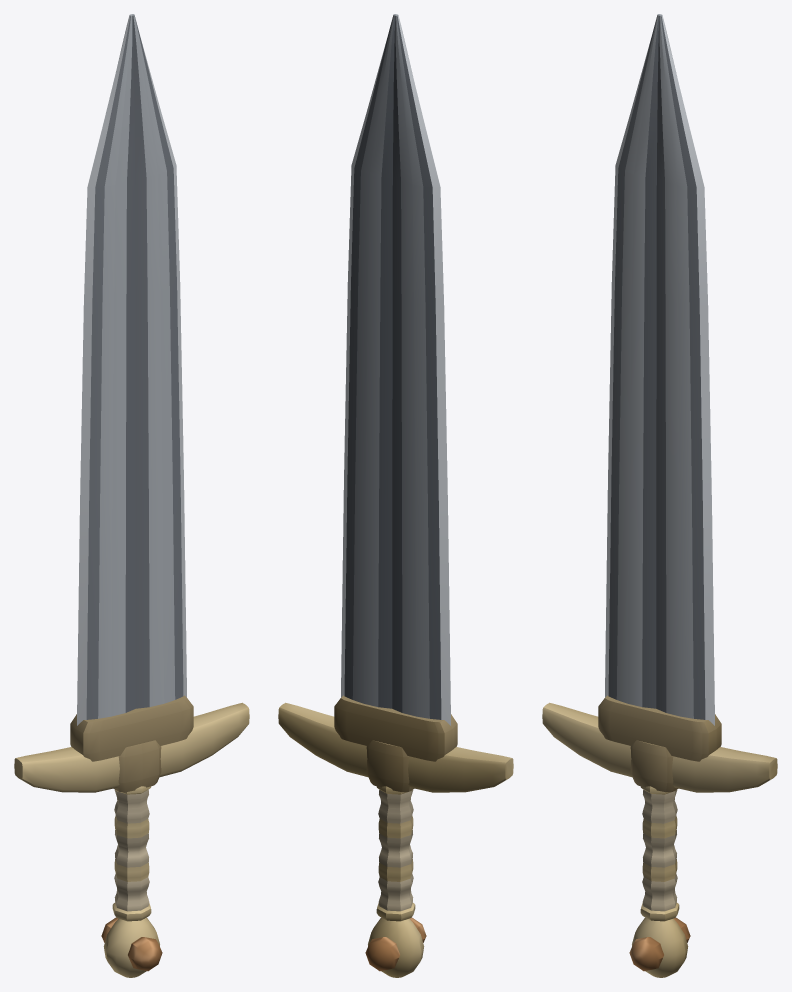
Rendered from gilded-oathblade.glb.
3 views of the same model, side by side, from view 1: azimuth 30°, elevation 25°; view 2: azimuth 150°, elevation 25°; view 3: azimuth 330°, elevation 25° (orthographic).
Parts seen in each view (by area): view 1: WPN_02_Sword_T2_Rare__BLADE.001, WPN_02_Sword_T2_Rare__GUARD.001, WPN_02_Sword_T2_Rare__GRIP.001, WPN_02_Sword_T2_Rare__POMMEL.001; view 2: WPN_02_Sword_T2_Rare__BLADE.001, WPN_02_Sword_T2_Rare__GUARD.001, WPN_02_Sword_T2_Rare__GRIP.001, WPN_02_Sword_T2_Rare__POMMEL.001; view 3: WPN_02_Sword_T2_Rare__BLADE.001, WPN_02_Sword_T2_Rare__GUARD.001, WPN_02_Sword_T2_Rare__GRIP.001, WPN_02_Sword_T2_Rare__POMMEL.001.
Boxes of the visible parts, bbox=[...] form: WPN_02_Sword_T2_Rare__BLADE.001: bbox=[77, 14, 186, 725]; WPN_02_Sword_T2_Rare__GUARD.001: bbox=[14, 695, 249, 792]; WPN_02_Sword_T2_Rare__GRIP.001: bbox=[112, 786, 151, 921]; WPN_02_Sword_T2_Rare__POMMEL.001: bbox=[101, 917, 162, 977]; WPN_02_Sword_T2_Rare__BLADE.001: bbox=[341, 14, 450, 725]; WPN_02_Sword_T2_Rare__GUARD.001: bbox=[278, 695, 513, 792]; WPN_02_Sword_T2_Rare__GRIP.001: bbox=[376, 786, 415, 921]; WPN_02_Sword_T2_Rare__POMMEL.001: bbox=[365, 917, 426, 977]; WPN_02_Sword_T2_Rare__BLADE.001: bbox=[605, 14, 714, 725]; WPN_02_Sword_T2_Rare__GUARD.001: bbox=[542, 695, 777, 792]; WPN_02_Sword_T2_Rare__GRIP.001: bbox=[640, 786, 679, 921]; WPN_02_Sword_T2_Rare__POMMEL.001: bbox=[629, 917, 690, 977].
Bounding box in the file's own units: 0.94 × 3.8 × 0.2968.
Materials: 1 (1 with a texture image).
